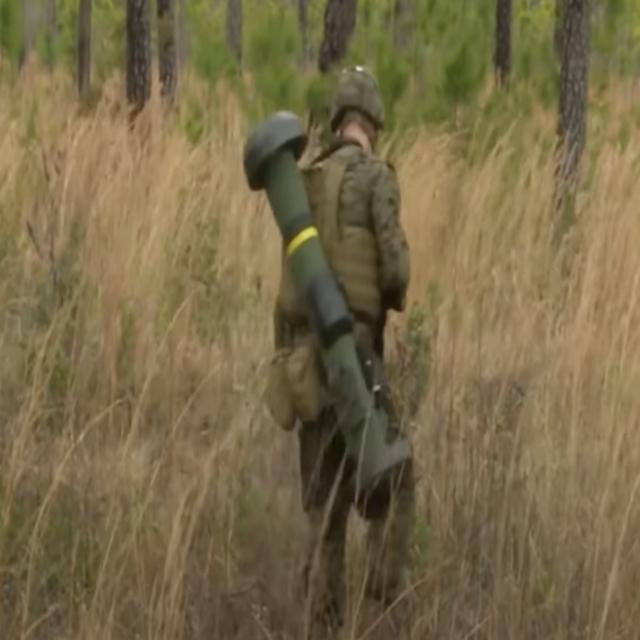bazooka: (234, 98, 421, 499)
